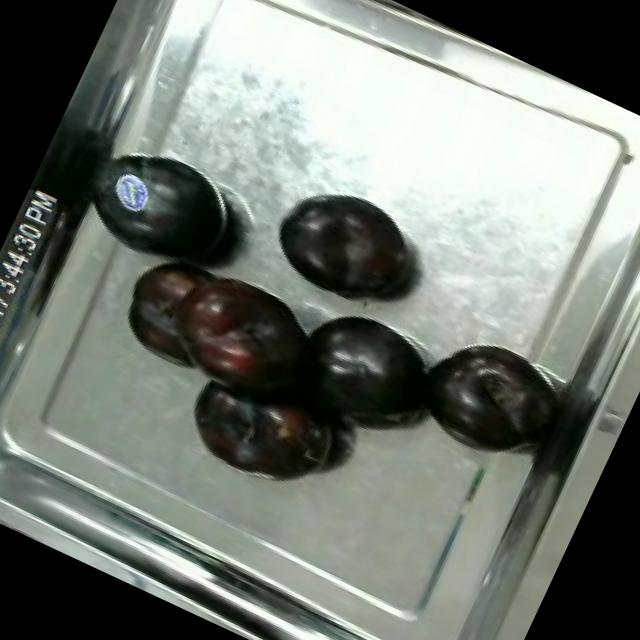Fruit: (267, 288, 451, 461), (254, 162, 436, 326), (78, 128, 260, 292), (406, 323, 564, 472), (168, 368, 280, 478)
